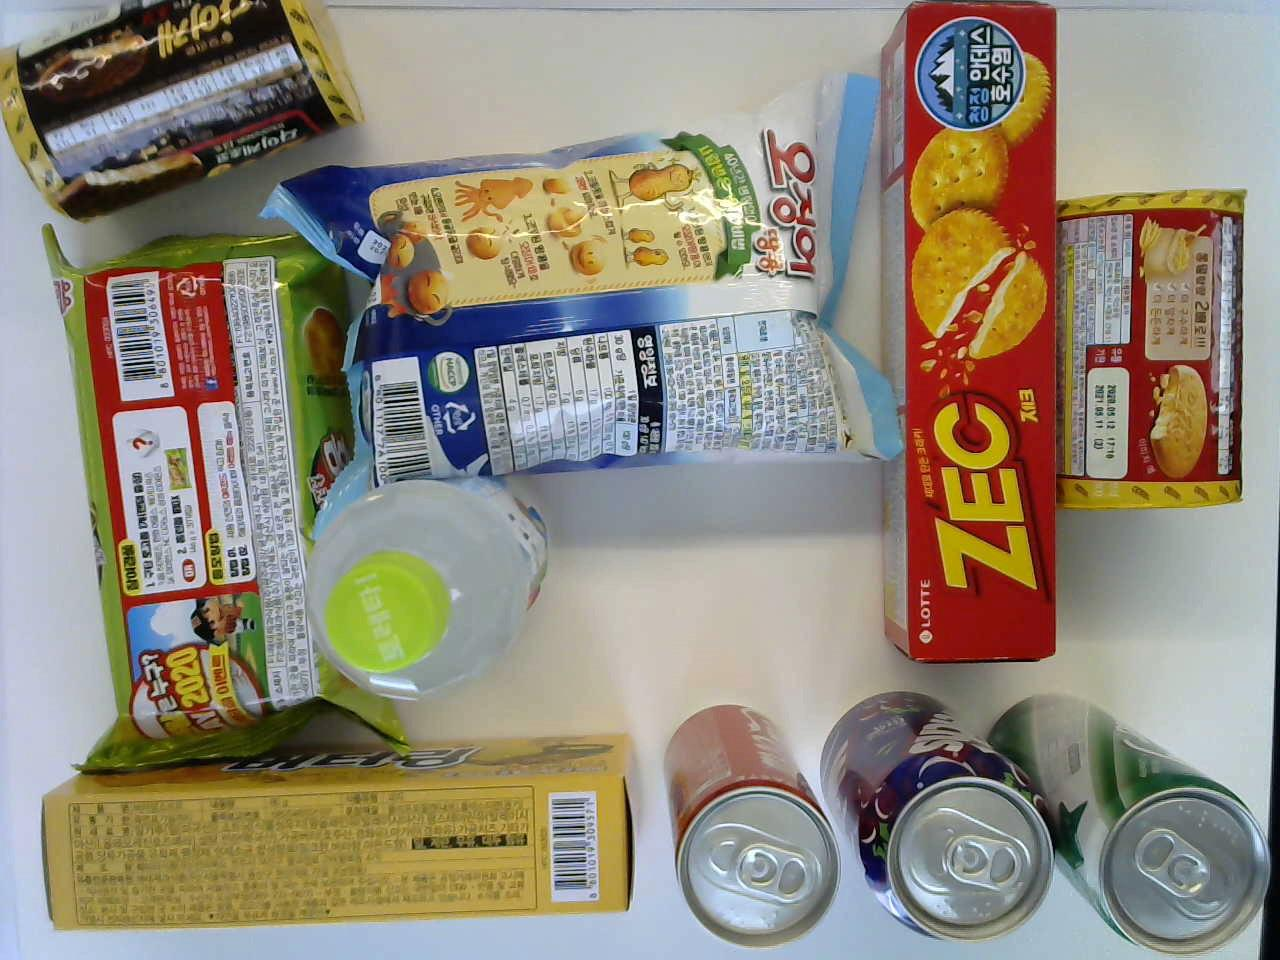buttering: (37, 732, 634, 932)
cidar: (990, 690, 1270, 947)
coke: (658, 703, 838, 946)
diget_choco: (1, 2, 368, 222)
diget_ori: (1062, 192, 1244, 508)
homerunball: (42, 225, 408, 769)
squid_peanut: (257, 72, 892, 524)
toreta: (312, 475, 555, 696)
welchs: (815, 688, 1048, 936)
zec: (876, 2, 1057, 658)
